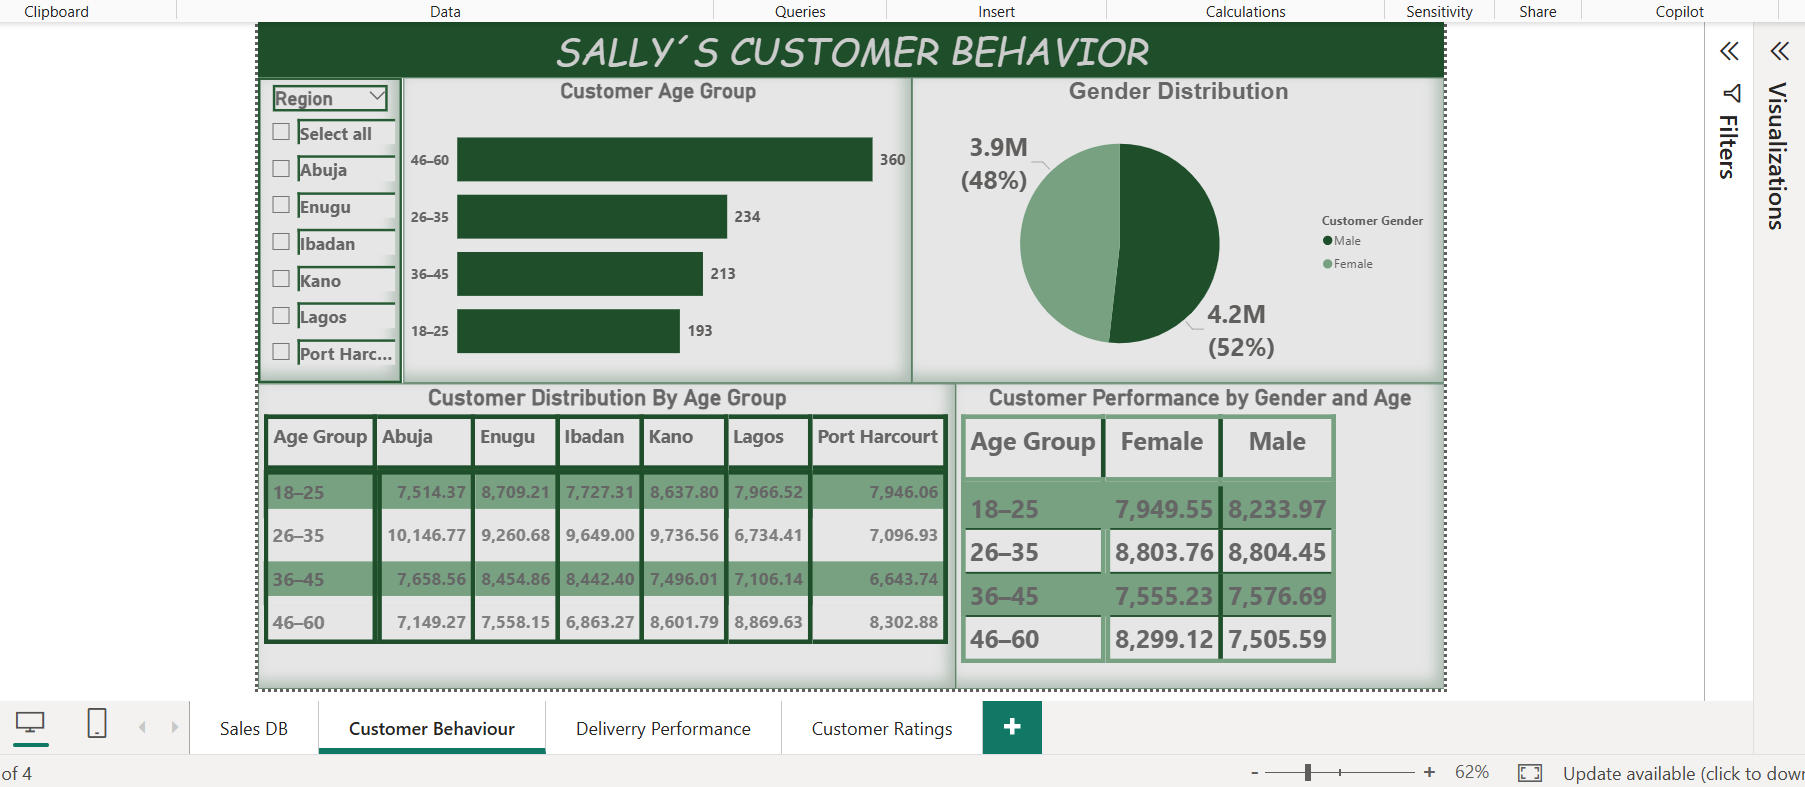

The dashboard page shown, as its layout file describes it:
{"tool":"powerbi","page":{"name":"Customer Behaviour","canvas":[1280,720],"ordinal":1},"visuals":[{"type":"shape","box":[0,0,1280.8,59.9],"z":0},{"type":"pieChart","title":"Gender Distribution","fields":{"Category":["Sheet1.Customer Gender"],"Y":["Sheet1.Total Amount"]},"box":[706,59.9,574.8,330.3],"z":1000},{"type":"barChart","title":" Customer Age Group","fields":{"Category":["Sheet1.Age Group"],"Y":["Sheet1.Customer Gender"]},"box":[157.1,59.9,548.9,330.3],"z":2000},{"type":"pivotTable","title":"Customer Distribution By Age Group","fields":{"Values":["Sheet1.Average Order Value"],"Rows":["Sheet1.Age Group"],"Columns":["Sheet1.Region"]},"box":[0,390.2,753,330.3],"z":3000},{"type":"slicer","fields":{"Values":["Sheet1.Region"]},"box":[0,59.9,155.4,330.3],"z":4000},{"type":"pivotTable","title":"Customer Performance by Gender and Age","fields":{"Values":["Sheet1.Average Order Value"],"Rows":["Sheet1.Age Group"],"Columns":["Sheet1.Customer Gender"]},"box":[752.9,390.2,527.9,330.3],"z":5000}]}

Visuals, with their boxes on the page's 1280x720 design canvas (x1, y1, x2, y2). These are canvas units, not pixel positions in the 1805x787 screenshot, which may show the page scaled, cropped or inside an application window:
shape: 0/0/1281/60
"Gender Distribution" pieChart: 706/60/1281/390
" Customer Age Group" barChart: 157/60/706/390
"Customer Distribution By Age Group" pivotTable: 0/390/753/720
slicer - Sheet1.Region: 0/60/155/390
"Customer Performance by Gender and Age" pivotTable: 753/390/1281/720
